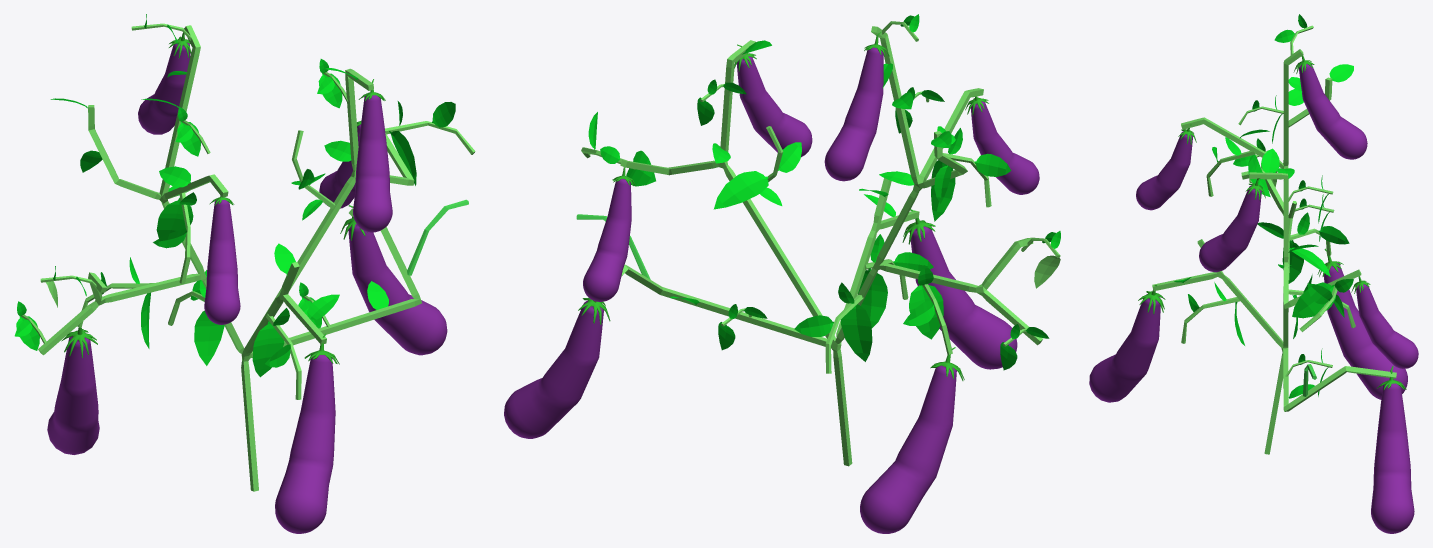
Rendered from Eggplant.fbx.
3 renders of one model, left to right at view 1: azimuth 30°, elevation 25°; view 2: azimuth 150°, elevation 25°; view 3: azimuth 270°, elevation 25°, orthographic. The views are drawn at different scales.
Parts seen in each view (by area): view 1: Eggplant tree; view 2: Eggplant tree; view 3: Eggplant tree.
Boxes of the visible parts, box(x1,y1,x2,y2) form: Eggplant tree: box(14, 14, 475, 533); Eggplant tree: box(504, 14, 1060, 533); Eggplant tree: box(1089, 14, 1418, 533).
Size of the model in its own units: 821 by 784 by 580.
